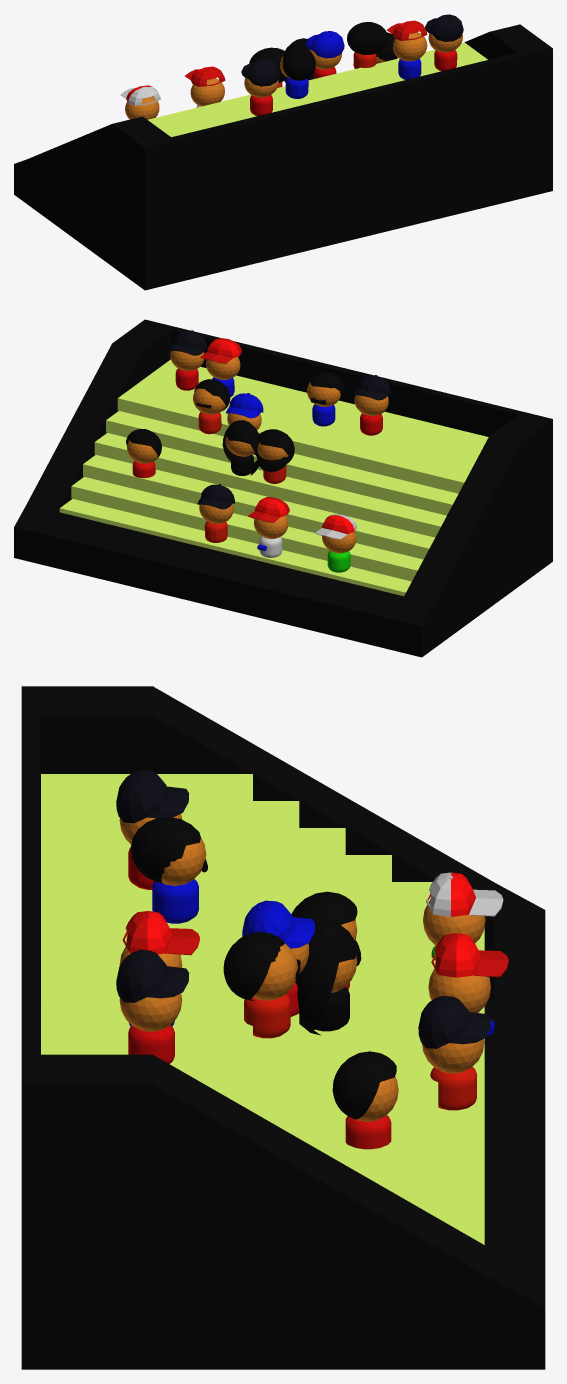
Rendered from SeatA.obj.
The picture shows the model from 3 angles, top to bottom: view 1: azimuth 30°, elevation 25°; view 2: azimuth 150°, elevation 25°; view 3: azimuth 270°, elevation 25°; orthographic projection. The views are drawn at different scales.
Visible parts, largest first — view 1: StadiumSits1_Cube.001, BlueAudience, Hairs.001, Hairs.002, baseball_cap.003, baseball_cap, baseball_cap.002, RedAudience.001, RedAudience, BlueAudience.001, BlueAudience.004, Baseball_Cap_01_Circle.001 (+5 smaller); view 2: StadiumSits1_Cube.001, BlueAudience.006, RedAudience.001, BlueAudience.008, BlueAudience.001, RedAudience, BlueAudience.004, BlueAudience.002, Hairs.003, BlueAudience.005, BlueAudience.003, BlueAudience (+12 smaller); view 3: StadiumSits1_Cube.001, Hairs.003, BlueAudience.006, RedAudience, BlueAudience.002, BlueAudience.008, Hairs.002, Hairs, baseball_cap, baseball_cap.001, baseball_cap.002, Hairs.001 (+10 smaller).
Part boxes in pixels (<box>): StadiumSits1_Cube.001: <box>14,24,552,290</box>; BlueAudience: <box>393,32,427,79</box>; Hairs.001: <box>347,22,387,54</box>; Hairs.002: <box>282,46,315,80</box>; baseball_cap.003: <box>306,31,344,58</box>; baseball_cap: <box>425,14,463,41</box>; baseball_cap.002: <box>241,59,279,86</box>; RedAudience.001: <box>244,78,278,116</box>; RedAudience: <box>428,33,462,71</box>; BlueAudience.001: <box>190,78,224,107</box>; BlueAudience.004: <box>125,96,159,119</box>; Baseball_Cap_01_Circle.001: <box>185,66,225,86</box>; StadiumSits1_Cube.001: <box>14,319,552,657</box>; BlueAudience.006: <box>193,388,225,434</box>; RedAudience.001: <box>354,395,388,435</box>; BlueAudience.008: <box>307,382,340,426</box>; BlueAudience.001: <box>254,515,288,557</box>; RedAudience: <box>170,350,204,390</box>; BlueAudience.004: <box>322,532,356,572</box>; BlueAudience.002: <box>199,504,233,542</box>; Hairs.003: <box>222,420,258,475</box>; BlueAudience.005: <box>127,440,158,478</box>; BlueAudience.003: <box>225,436,254,475</box>; BlueAudience: <box>206,357,240,396</box>; StadiumSits1_Cube.001: <box>21,686,545,1369</box>; Hairs.003: <box>295,921,357,1035</box>; BlueAudience.006: <box>244,943,297,1038</box>; RedAudience: <box>119,993,182,1063</box>; BlueAudience.002: <box>422,1039,484,1110</box>; BlueAudience.008: <box>152,837,206,923</box>; Hairs.002: <box>130,817,200,883</box>; Hairs: <box>332,1051,396,1119</box>; baseball_cap: <box>116,950,189,1002</box>; baseball_cap.001: <box>418,996,491,1048</box>; baseball_cap.002: <box>116,770,189,823</box>; Hairs.001: <box>223,932,284,1000</box>.
Size of the model in its own units: 21.8 by 8.83 by 12.12.
